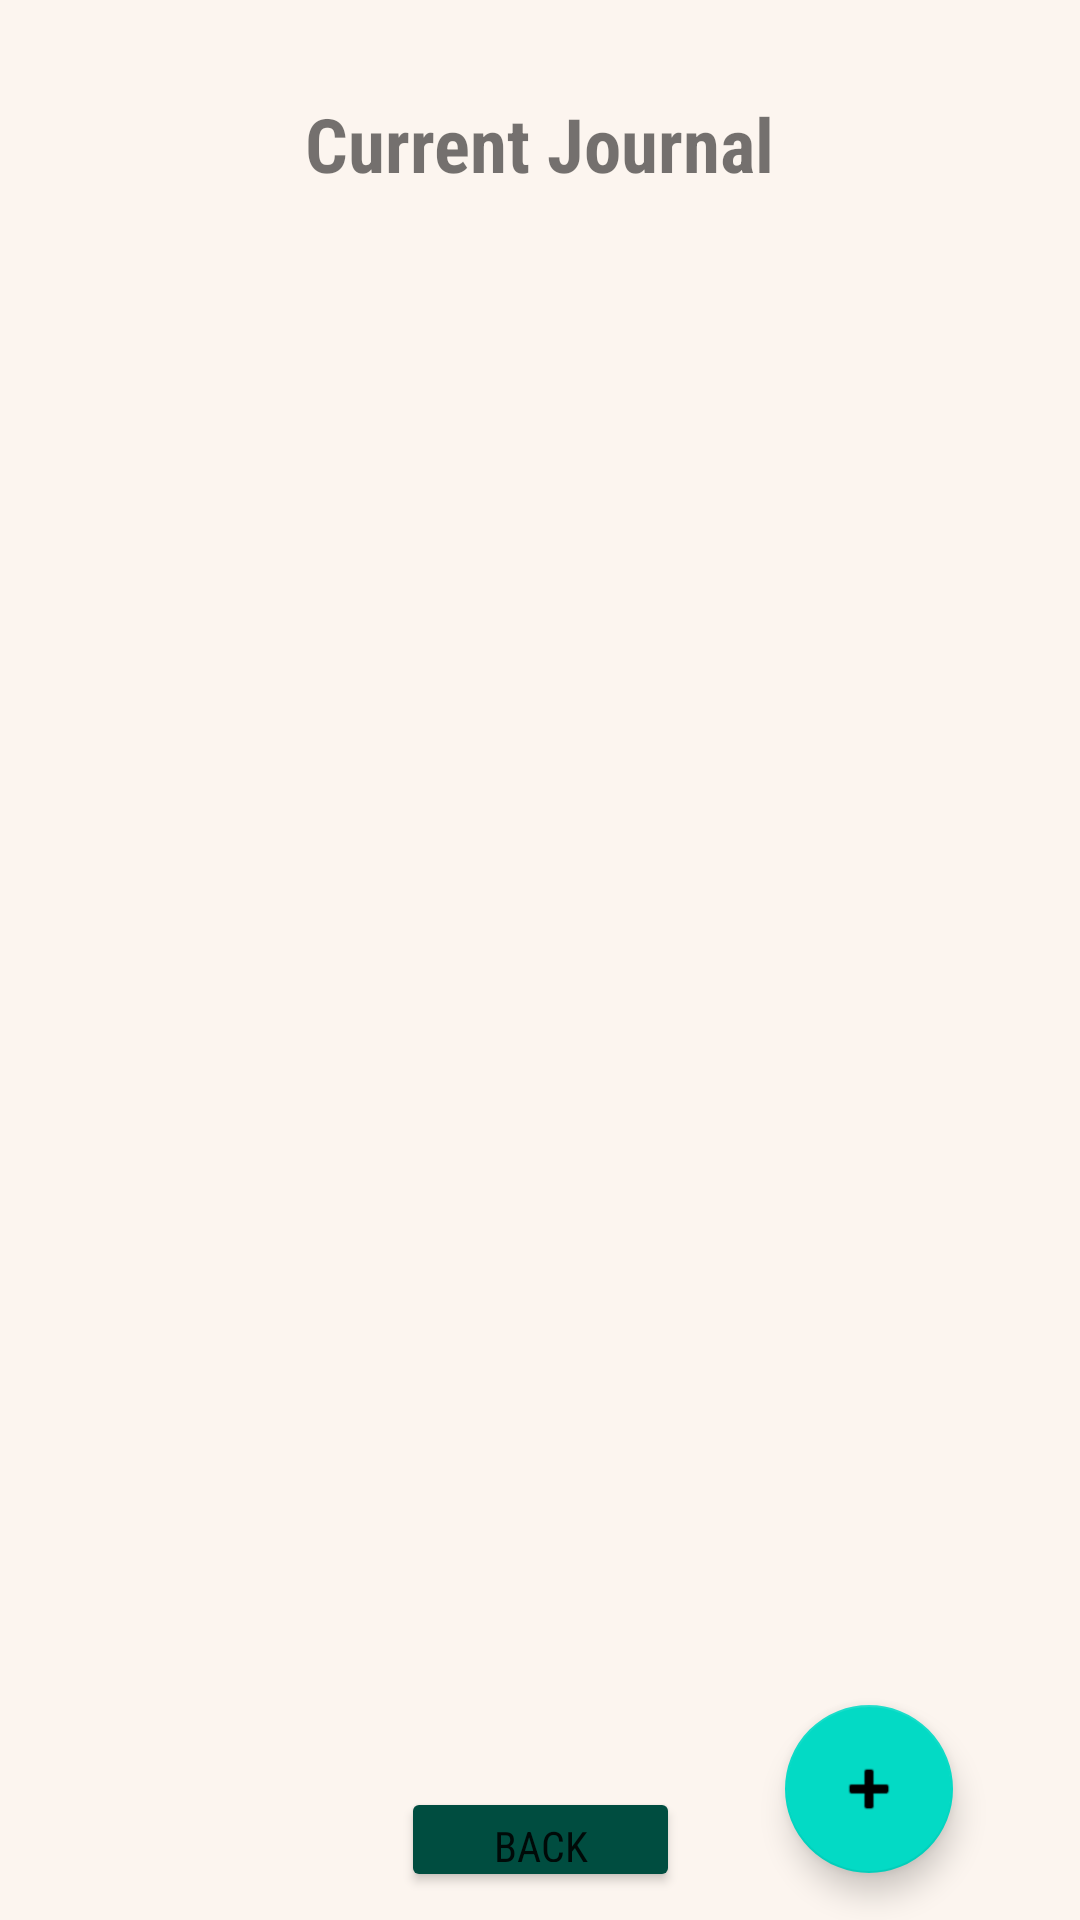

Locate icon controls on the screen. Image size 1080w x 1920h, boxes as box=[x1, y1, x2, y2].
add: box=[785, 1705, 953, 1873]
